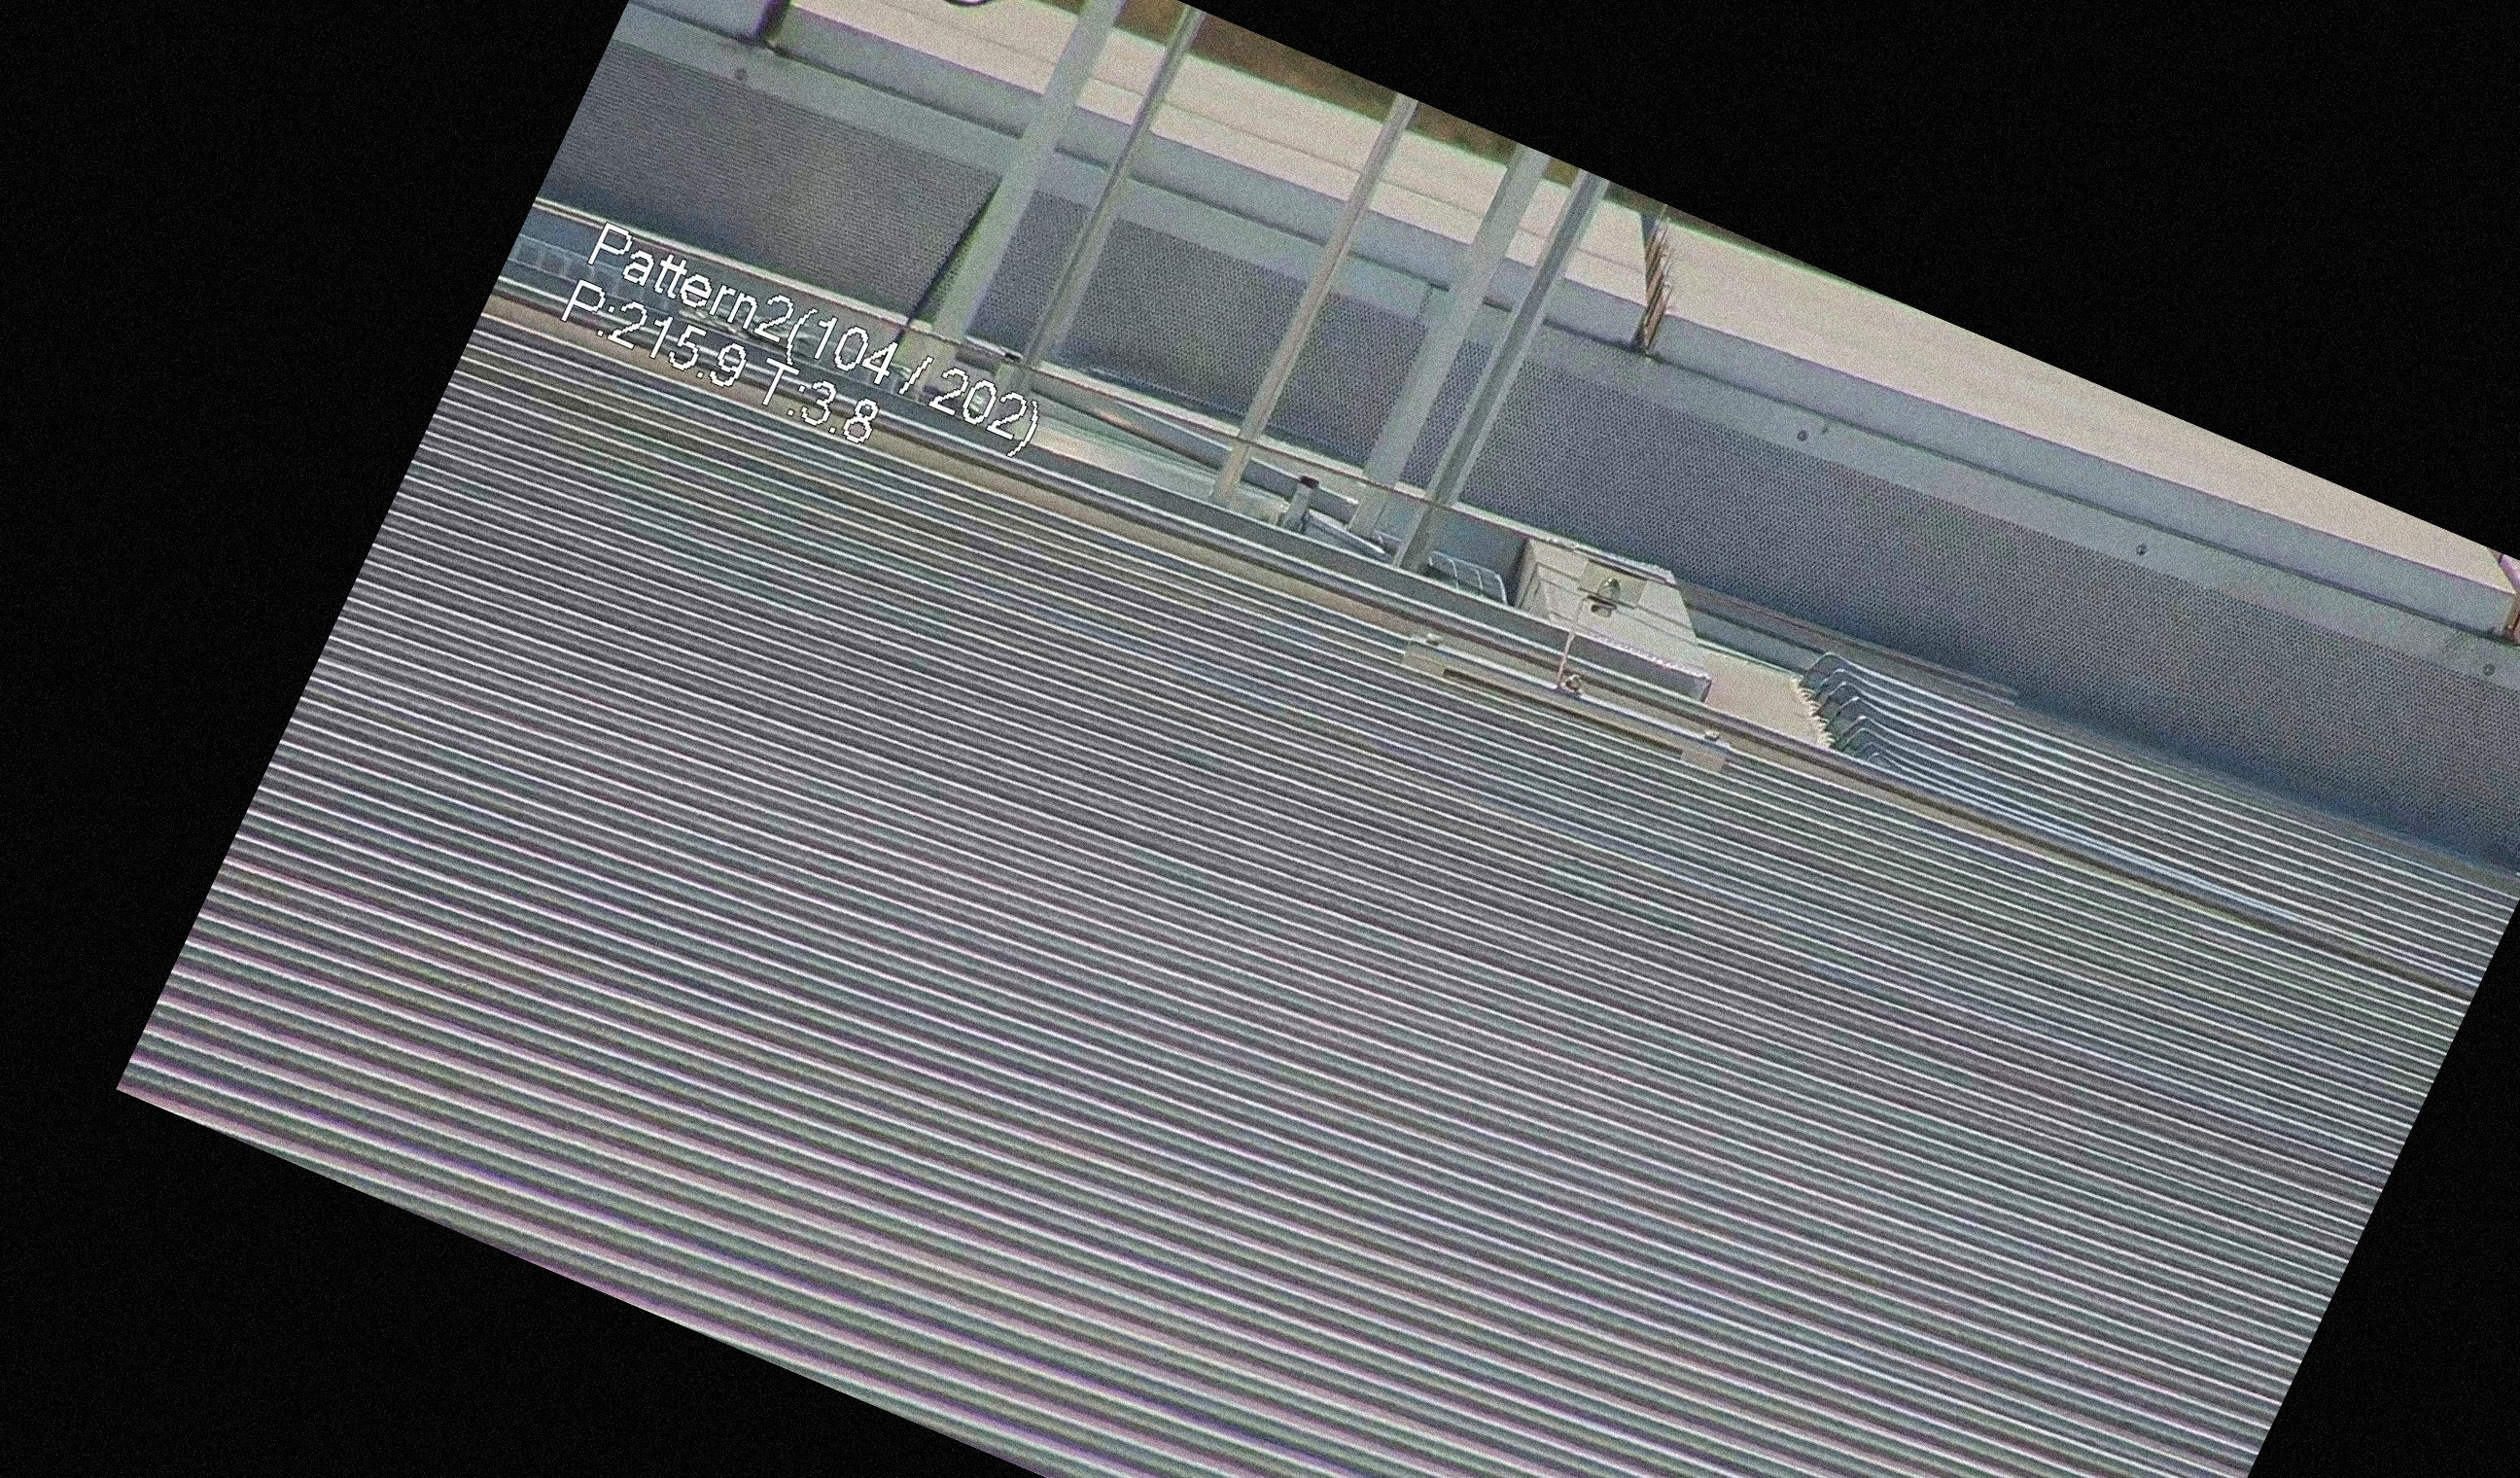Other: (895, 0, 1125, 51)
